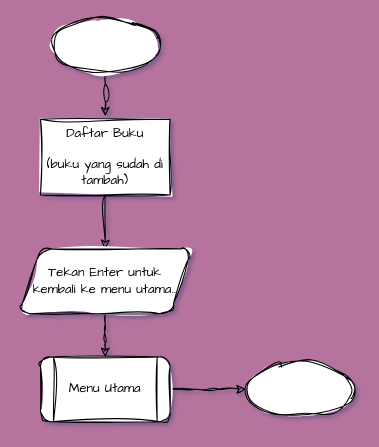
Some shapes in this 379 by 447 pixel diagram are drawn without their labels. The shapes that lost their labels are listed below. From the top down, each one's centre as x and y in pixels, then its label:
point (104, 45): Start
point (299, 388): End
